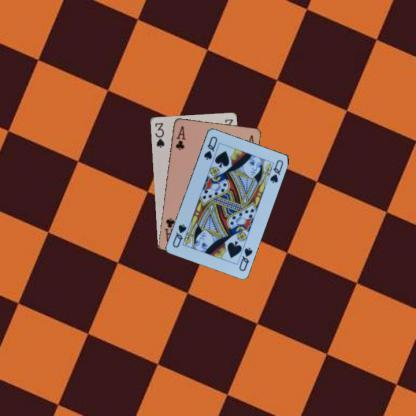3s: (152, 120, 166, 149)
Ac: (172, 122, 186, 152)
Qs: (236, 245, 254, 272), (201, 134, 219, 160)
